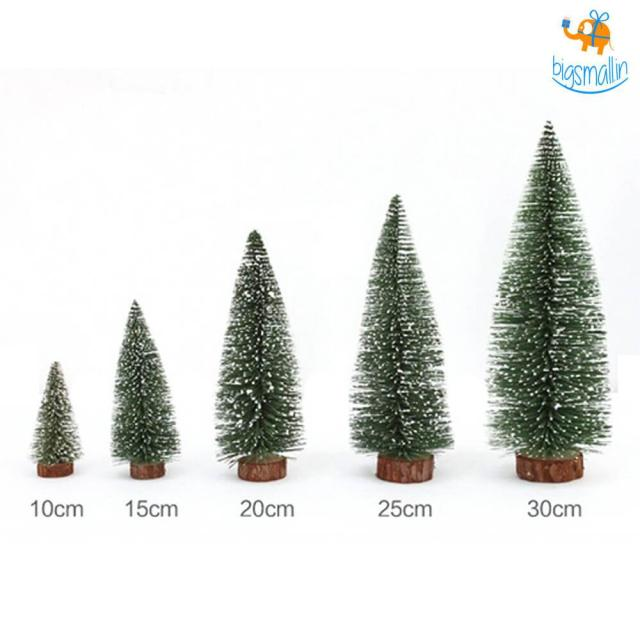Christmas-tree: (341, 181, 464, 488)
